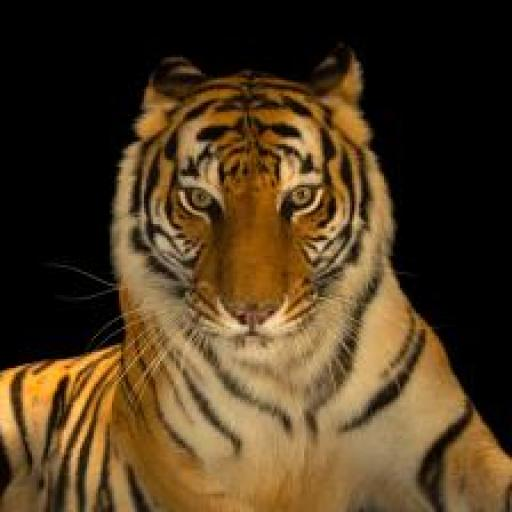Tiger: (41, 46, 512, 512)
